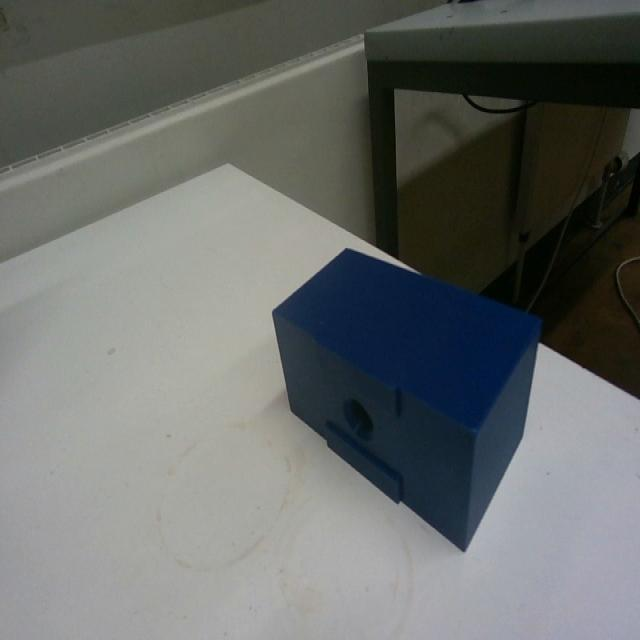Blue Cuboid: (269, 241, 544, 552)
